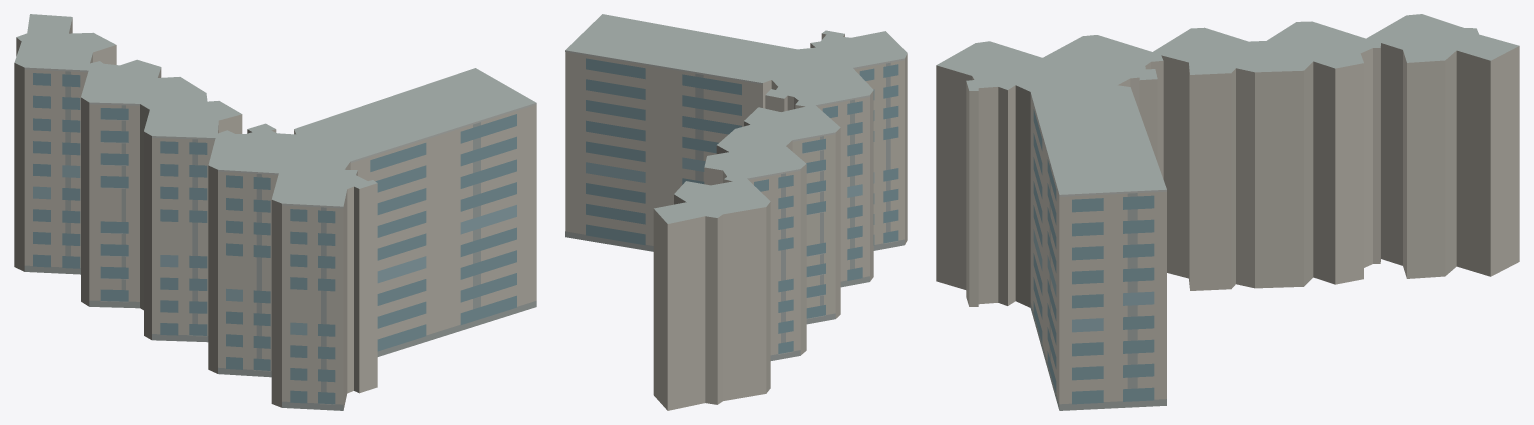
File: survey-upis-32840147.glb
The picture shows the model from 3 angles, left to right: view 1: azimuth 30°, elevation 25°; view 2: azimuth 150°, elevation 25°; view 3: azimuth 270°, elevation 25°; orthographic projection. The views are drawn at different scales.
Visible parts, largest first — view 1: survey-upis-32840147.tmp; view 2: survey-upis-32840147.tmp; view 3: survey-upis-32840147.tmp.
Part boxes in pixels (x1,y1,x2,y2): survey-upis-32840147.tmp: (14, 14, 536, 410); survey-upis-32840147.tmp: (565, 14, 907, 410); survey-upis-32840147.tmp: (936, 14, 1519, 410).
Bounding box in the file's own units: 49.3 × 27.45 × 67.17.
